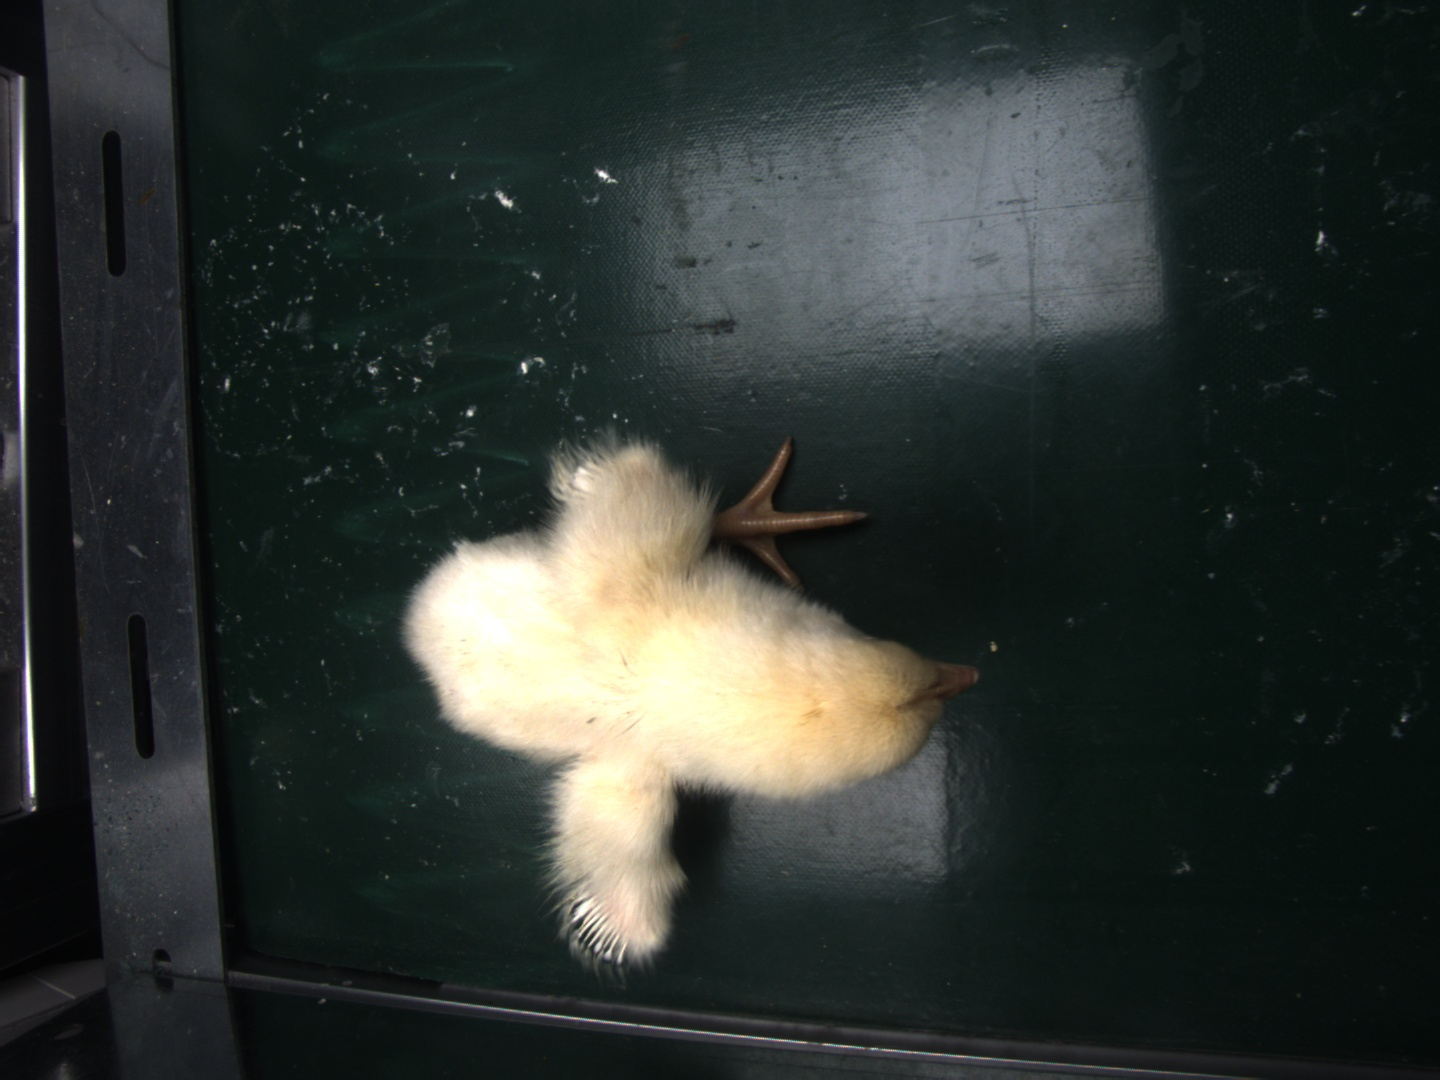male: (569, 889, 636, 967)
